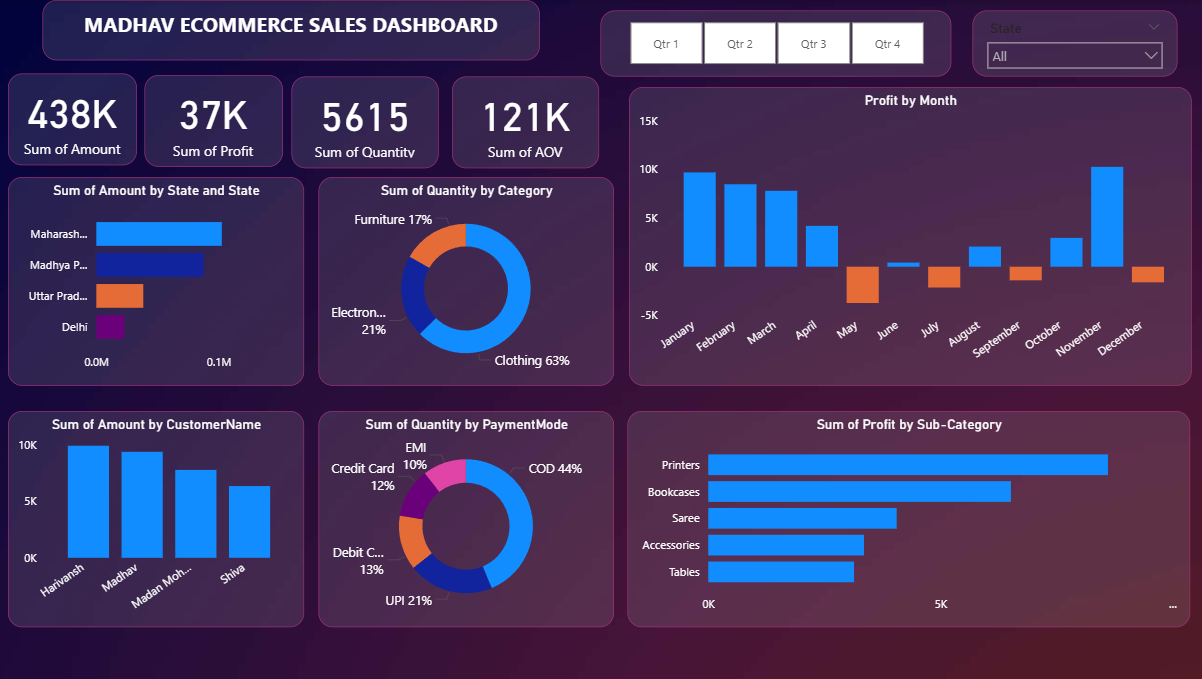

The page's visual inventory and layout, read from the dashboard file:
{"tool":"powerbi","page":{"name":"Page 1","canvas":[1280,720],"ordinal":0},"visuals":[{"type":"columnChart","title":"Profit by Month","fields":{"Category":["Orders.Order Date.Variation.Date Hierarchy.Month"],"Y":["Details.Profit"]},"box":[671.2,92.3,596.5,316.5],"z":0},{"type":"barChart","fields":{"Category":["Details.Sub-Category"],"Y":["Details.Profit"]},"box":[669.6,435.8,596.5,229],"z":1000},{"type":"donutChart","fields":{"Category":["Details.Category"],"Y":["Details.Quantity"]},"box":[342,187.7,313.4,221.1],"z":2000},{"type":"donutChart","fields":{"Y":["Details.Quantity"],"Category":["Details.PaymentMode"]},"box":[342,435.8,313.4,229],"z":3000},{"type":"card","fields":{"Values":["Details.Amount"]},"box":[12.7,77.9,136.8,97],"z":4000},{"type":"card","fields":{"Values":["Details.Profit"]},"box":[157.5,79.5,146.3,97],"z":5000},{"type":"card","fields":{"Values":["Details.Quantity"]},"box":[313.4,81.1,155.9,97],"z":6000},{"type":"card","fields":{"Values":["Details.AOV"]},"box":[483.5,81.1,155.9,97],"z":7000},{"type":"barChart","fields":{"Category":["Orders.State"],"Series":["Orders.State"],"Y":["Details.Amount"]},"box":[13.2,187.1,313.7,221.1],"z":8000},{"type":"columnChart","fields":{"Category":["Orders.CustomerName"],"Y":["Details.Amount"]},"box":[13,436,314,229],"z":9000},{"type":"textbox","box":[49.1,0,527.2,64.3],"z":10000},{"type":"slicer","fields":{"Values":["Orders.Order Date.Variation.Date Hierarchy.Quarter"]},"box":[640.6,11.3,372.3,69.9],"z":11000},{"type":"slicer","fields":{"Values":["Orders.State"]},"box":[1035.6,11.3,217.3,69.9],"z":12000}]}

Visuals, with their boxes in screenshot pixels (x1, y1, x2, y2), scaled from the page's 1280x720 canvas onto the 1202x679 screenshot:
"Profit by Month" columnChart: [630,87,1190,386]
barChart - Details.Sub-Category x Details.Profit: [629,411,1189,627]
donutChart - Details.Category x Details.Quantity: [321,177,615,386]
donutChart - Details.Quantity x Details.PaymentMode: [321,411,615,627]
card - Details.Amount: [12,73,140,165]
card - Details.Profit: [148,75,285,166]
card - Details.Quantity: [294,76,441,168]
card - Details.AOV: [454,76,600,168]
barChart - Orders.State x Orders.State: [12,176,307,385]
columnChart - Orders.CustomerName x Details.Amount: [12,411,307,627]
textbox: [46,0,541,61]
slicer - Orders.Order Date.Variation.Date Hierarchy.Quarter: [602,11,951,77]
slicer - Orders.State: [972,11,1177,77]
